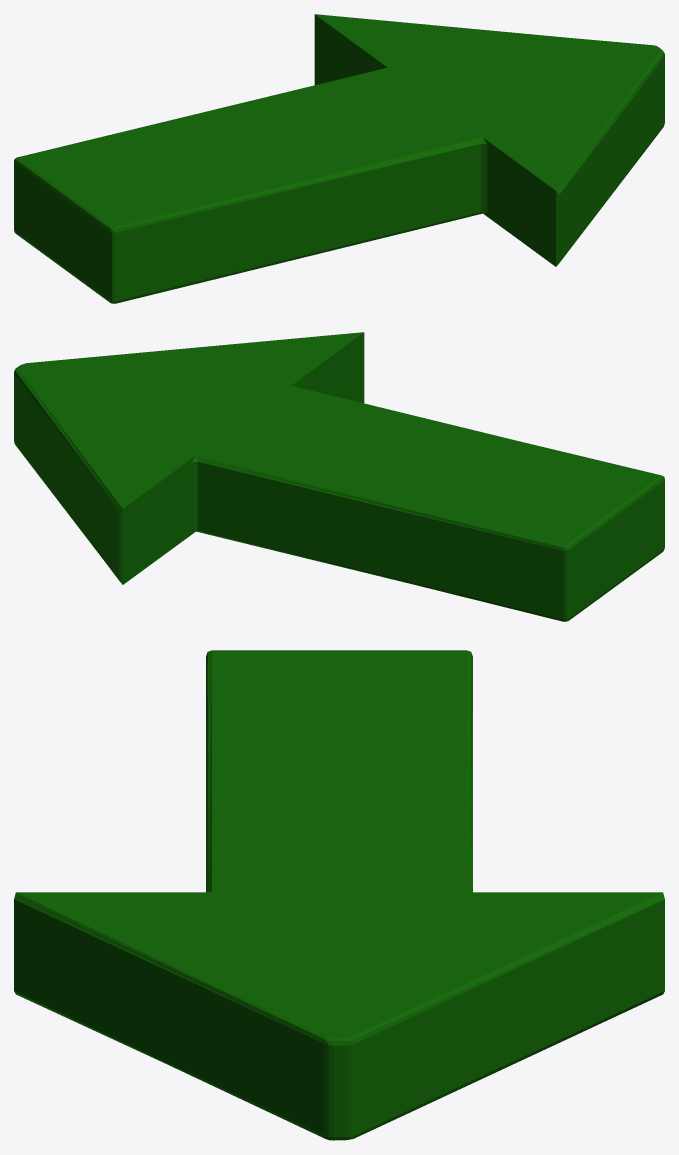
The model's file is arrow.FBX.
The picture shows the model from 3 angles, top to bottom: view 1: azimuth 30°, elevation 25°; view 2: azimuth 150°, elevation 25°; view 3: azimuth 270°, elevation 25°; orthographic projection. The views are drawn at different scales.
Visible parts, largest first — view 1: Box01; view 2: Box01; view 3: Box01.
Boxes of the visible parts, box(x1,y1,x2,y2) form: Box01: box(14, 14, 664, 303); Box01: box(14, 332, 664, 621); Box01: box(14, 650, 664, 1140).
Bounding box in the file's own units: 50.33 × 6.11 × 35.34.
